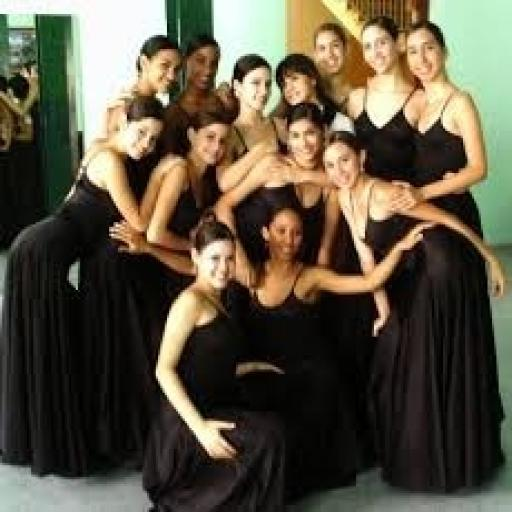dancing: (13, 27, 512, 512)
